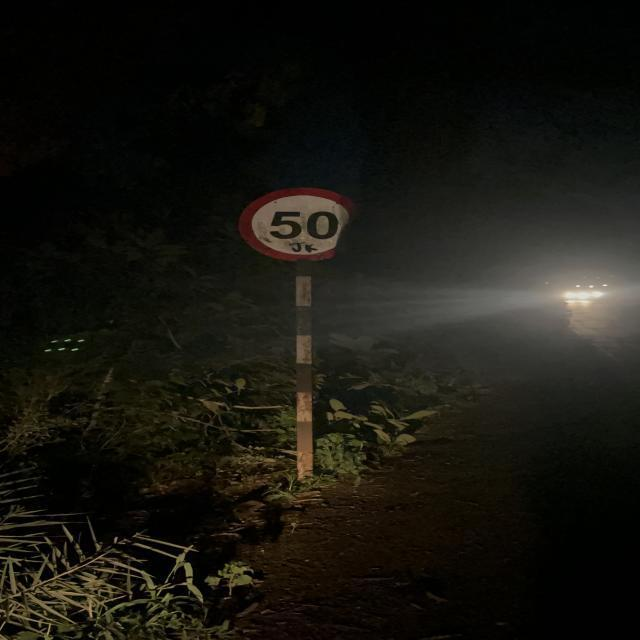speed limit 50: (239, 187, 356, 268)
